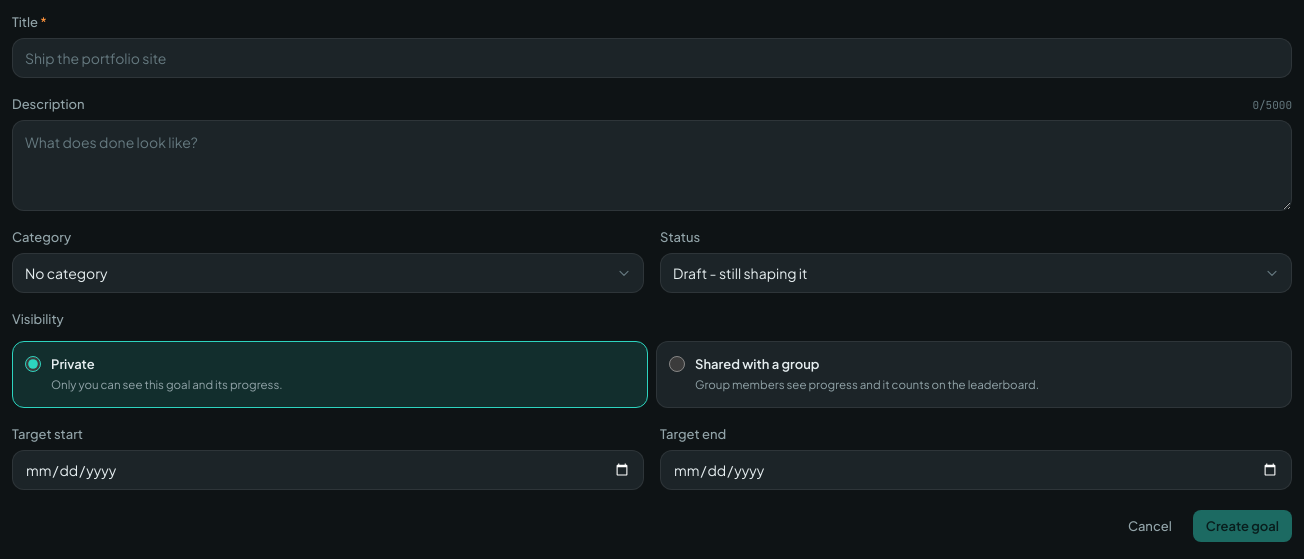
GoalForm validation states › blocks submission until a title is present
expect the button "Create goal" is disabled: met, box [1193,510,1292,542]
Type "Ship the portfolio" into the field labelled "Title *" at (652, 58), box [12,38,1292,78]
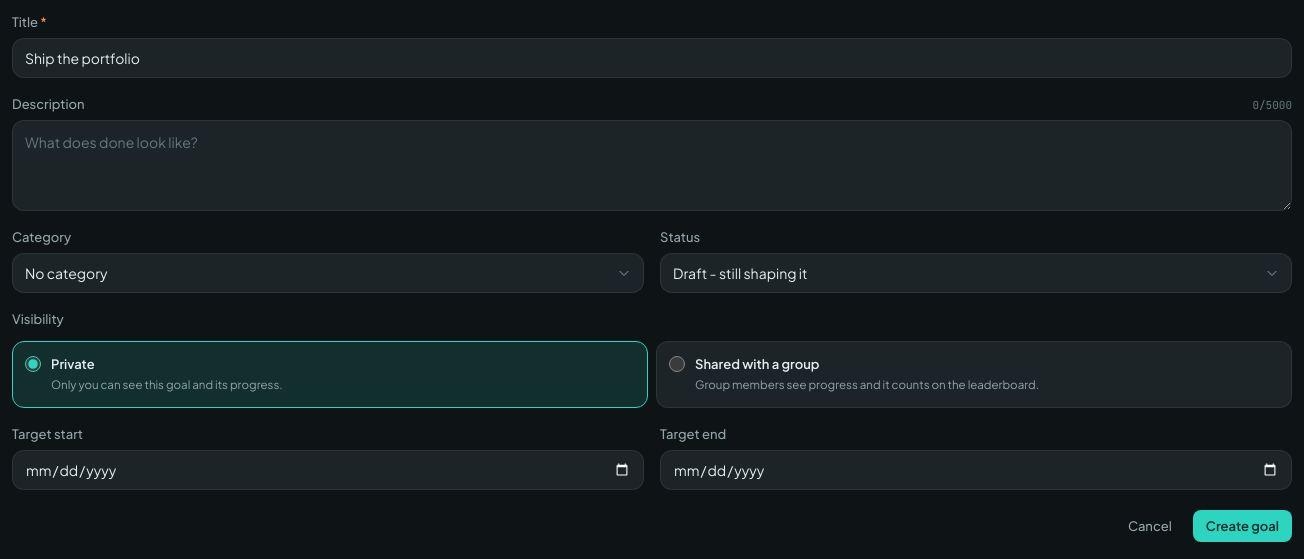
expect the button "Create goal" is enabled: met, box [1193,510,1292,542]
